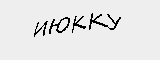І: (19, 21, 29, 35)
З: (42, 17, 57, 36)
М: (57, 15, 86, 31)
П: (120, 11, 143, 35)
С: (27, 19, 41, 35)
Ю: (87, 12, 118, 32)
